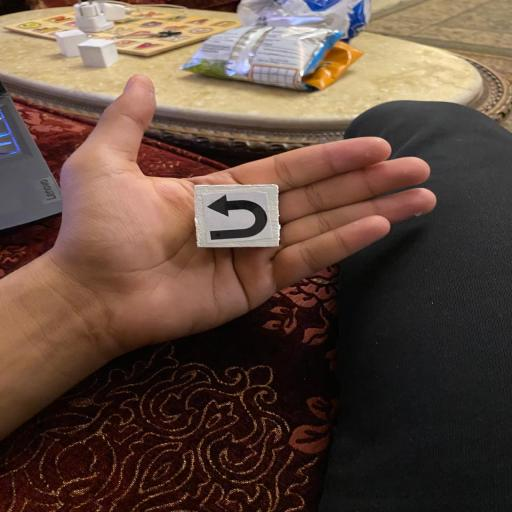Undo: (190, 181, 284, 249)
